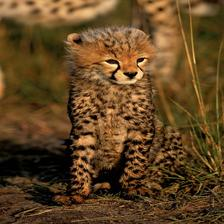Cheetah: (52, 22, 187, 204)
